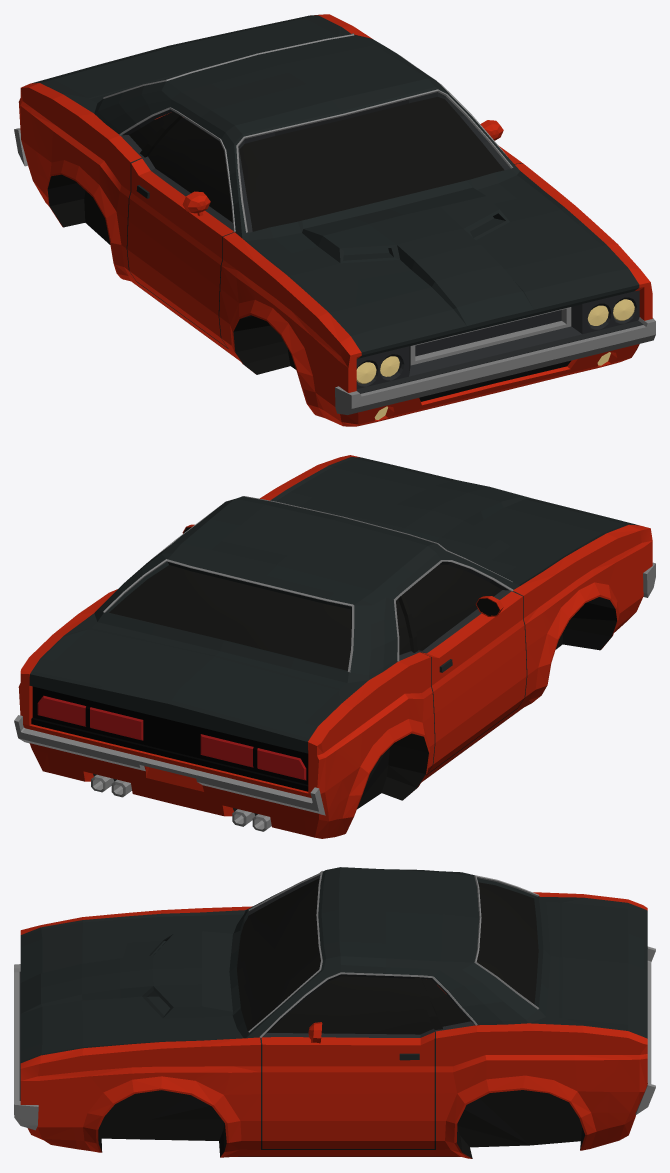
File: Car_J_01.FBX
The picture shows the model from 3 angles, top to bottom: view 1: azimuth 30°, elevation 25°; view 2: azimuth 150°, elevation 25°; view 3: azimuth 270°, elevation 25°; orthographic projection. The views are drawn at different scales.
Parts seen in each view (by area): view 1: car_01_cheshen02, car_01_cheshen01, car_01_glass, car_01_biankuang_03, car_01_biankuang_01, car_01_dipan, car_01_biankuang_04, car_01_biankuang_02, car_01_Light_F; view 2: car_01_cheshen02, car_01_cheshen01, car_01_glass, car_01_biankuang_03, car_01_biankuang_01, car_01_dipan, car_01_Light_B, car_01_biankuang_04, car_01_biankuang_02; view 3: car_01_cheshen02, car_01_cheshen01, car_01_glass, car_01_dipan, car_01_biankuang_04, car_01_biankuang_01, car_01_biankuang_02.
Part boxes in pixels (bbox=[...]): car_01_cheshen02: bbox=[32, 15, 639, 358]; car_01_cheshen01: bbox=[18, 14, 652, 426]; car_01_glass: bbox=[129, 97, 504, 231]; car_01_biankuang_03: bbox=[356, 290, 643, 401]; car_01_biankuang_01: bbox=[14, 128, 655, 414]; car_01_dipan: bbox=[47, 174, 295, 374]; car_01_biankuang_04: bbox=[121, 92, 522, 348]; car_01_biankuang_02: bbox=[103, 33, 512, 232]; car_01_Light_F: bbox=[356, 299, 634, 419]; car_01_cheshen02: bbox=[29, 457, 638, 753]; car_01_cheshen01: bbox=[18, 455, 652, 838]; car_01_glass: bbox=[109, 527, 501, 670]; car_01_biankuang_03: bbox=[31, 686, 308, 815]; car_01_biankuang_01: bbox=[14, 562, 655, 831]; car_01_dipan: bbox=[357, 597, 616, 809]; car_01_Light_B: bbox=[37, 695, 306, 780]; car_01_biankuang_04: bbox=[105, 561, 527, 775]; car_01_biankuang_02: bbox=[103, 496, 513, 672]; car_01_cheshen02: bbox=[20, 867, 647, 1062]; car_01_cheshen01: bbox=[20, 892, 647, 1158]; car_01_glass: bbox=[237, 878, 538, 1034]; car_01_dipan: bbox=[98, 1090, 584, 1158]; car_01_biankuang_04: bbox=[236, 875, 543, 1149]; car_01_biankuang_01: bbox=[14, 946, 655, 1130]; car_01_biankuang_02: bbox=[248, 871, 539, 1037].
Bounding box in the file's own units: 122 × 71.26 × 225.
